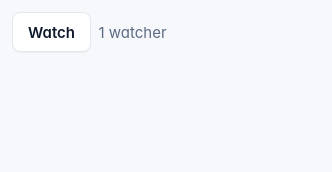
it: IssueWatchers › watches and stops watching
Expected: the text "1 watcher" is shown, x1=98 y1=20 x2=167 y2=44
Click the button "Watch". click: coordinates (52, 32)
box: x1=12 y1=12 x2=91 y2=52
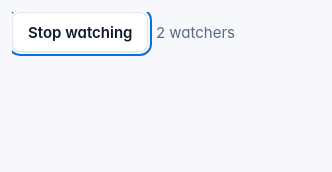
Now the text "2 watchers" is shown, box x1=156 y1=20 x2=235 y2=44
Click the button "Stop watching". click: coordinates (80, 32)
box: x1=12 y1=12 x2=148 y2=52
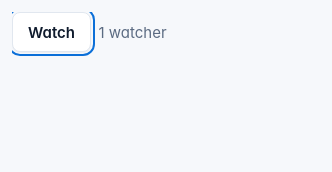
Now the text "1 watcher" is shown, box x1=98 y1=20 x2=167 y2=44
